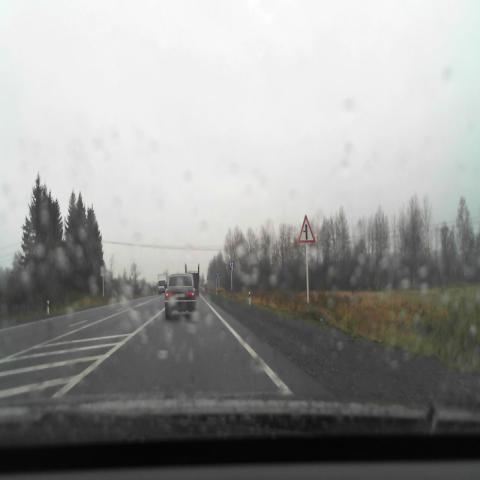2_3_3: (298, 214, 316, 243)
